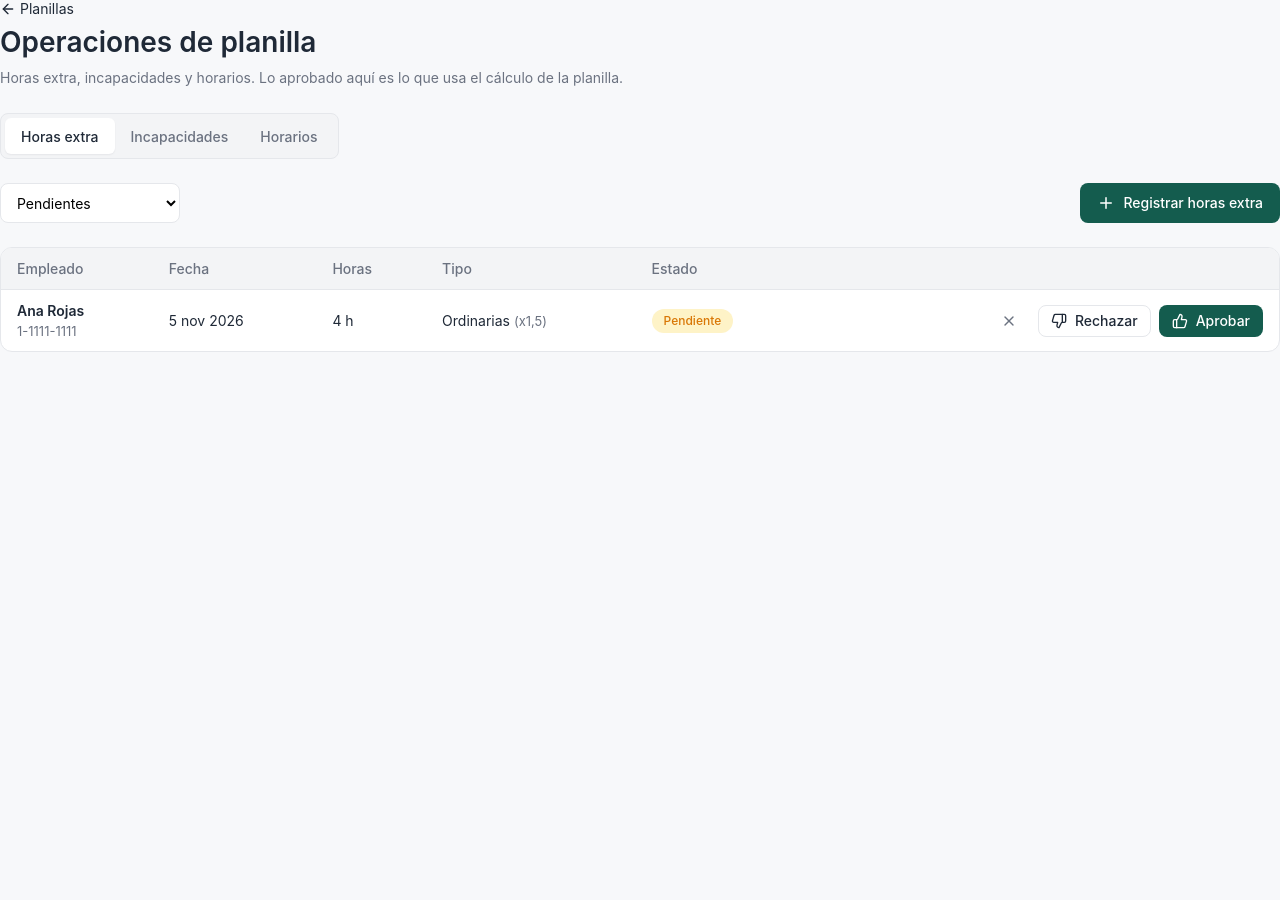
PayrollOperationsPage › registers overtime for an employee
This screenshot has width=1280, height=900.
Step 1. Click the button "Registrar horas extra" → x=1180, y=203, box [1080,183,1279,223]
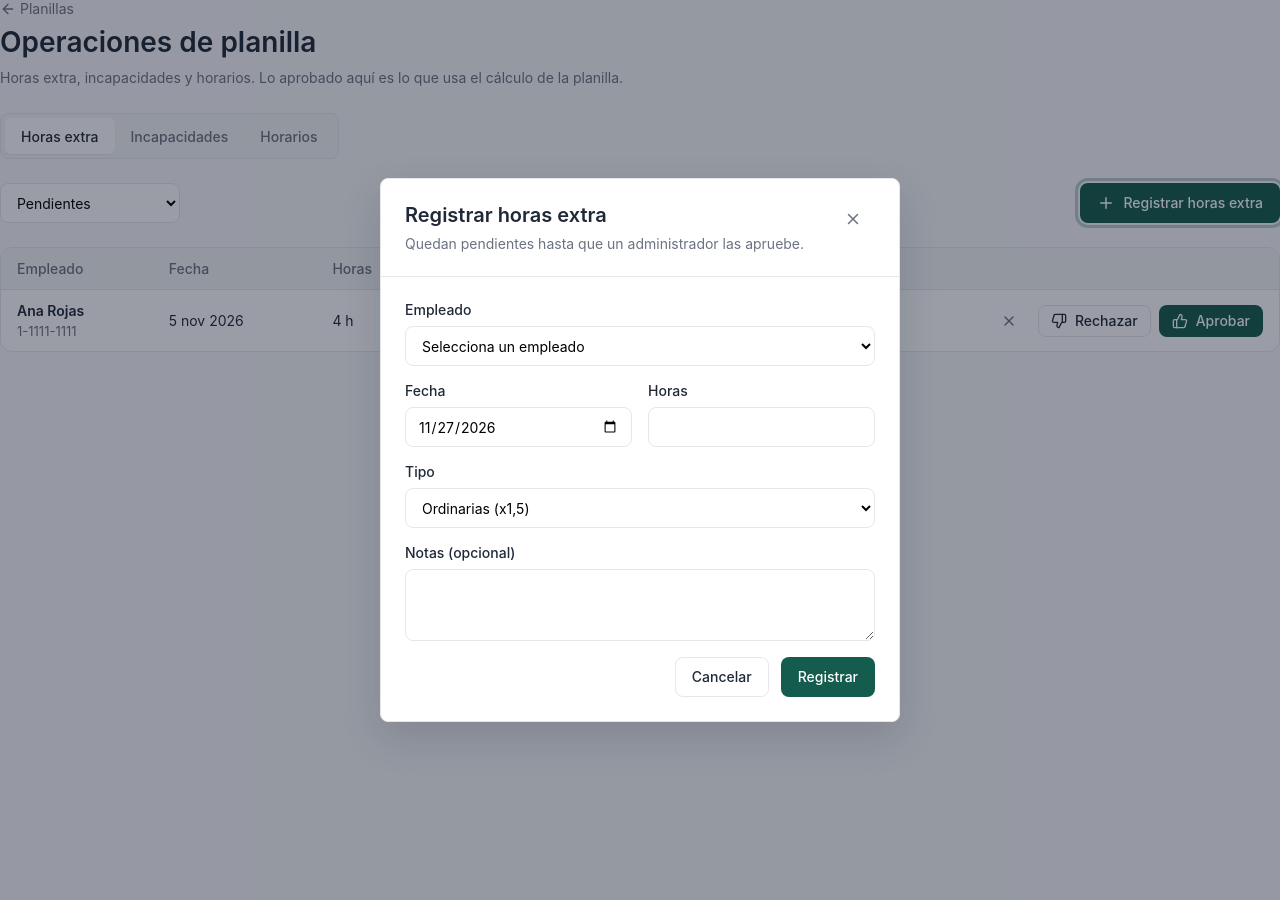
Result: the dropdown labelled "Tipo" shows "Ordinarias (x1,5)" at [405,488,875,528]
Step 2. Select "Luis Mora" in the dropdown labelled "Empleado" → x=640, y=346, box [405,326,875,366]
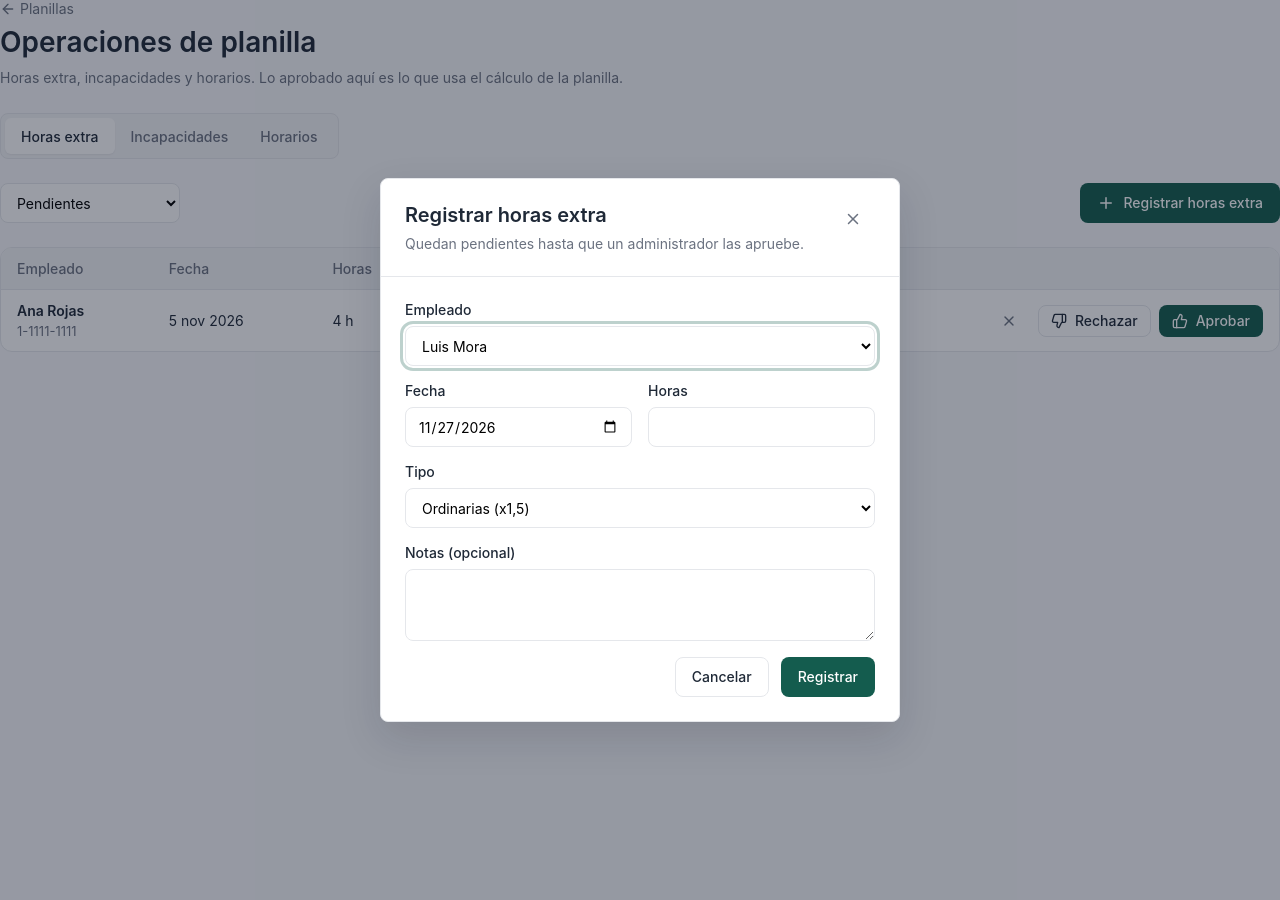
Step 3. Select "En feriado (x2)" in the dropdown labelled "Tipo" → x=640, y=508, box [405,488,875,528]
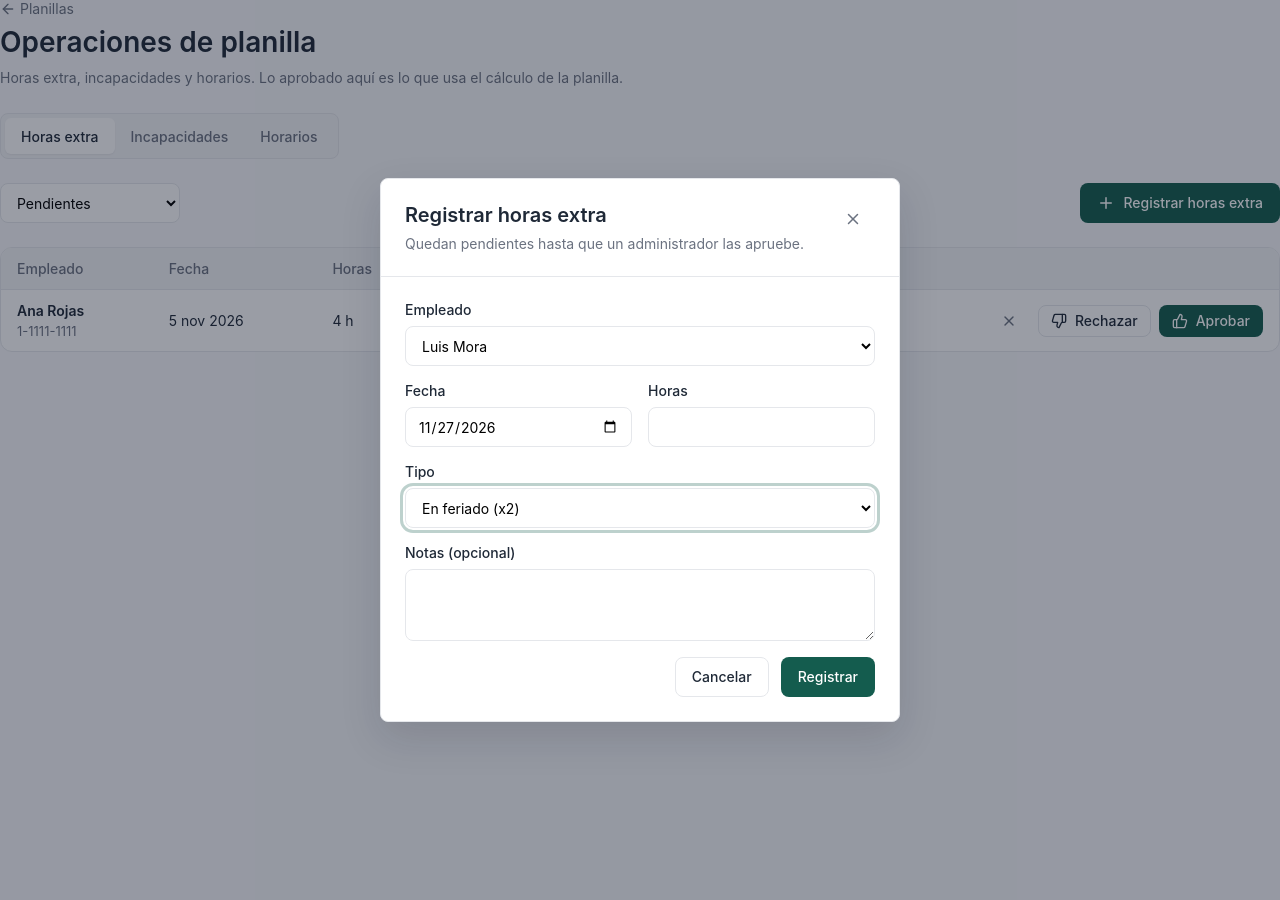
Step 4. Type "3" into the number field labelled "Horas" → x=762, y=427, box [648,407,875,447]
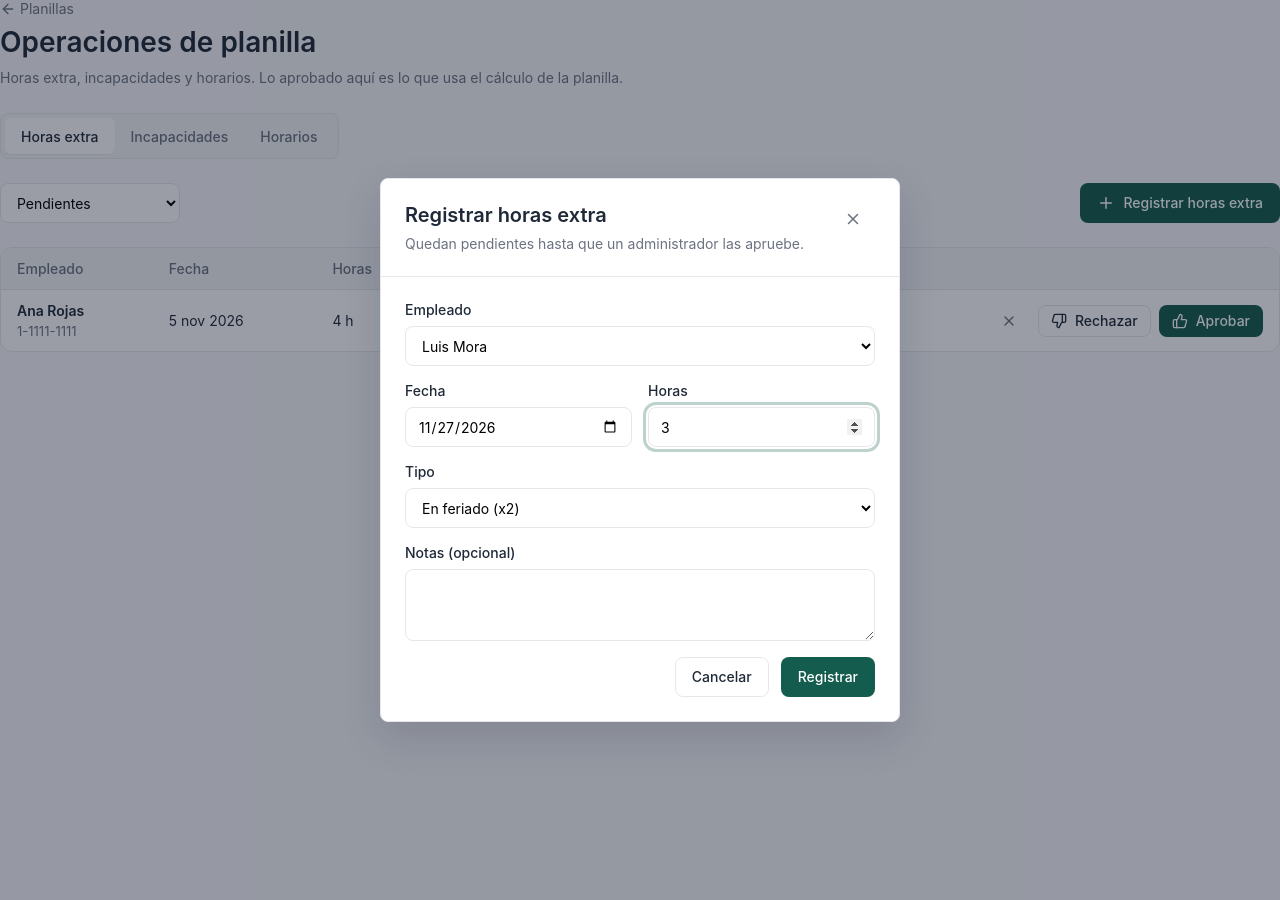
Step 5. Click the button "Registrar" → x=828, y=677, box [781,657,875,697]
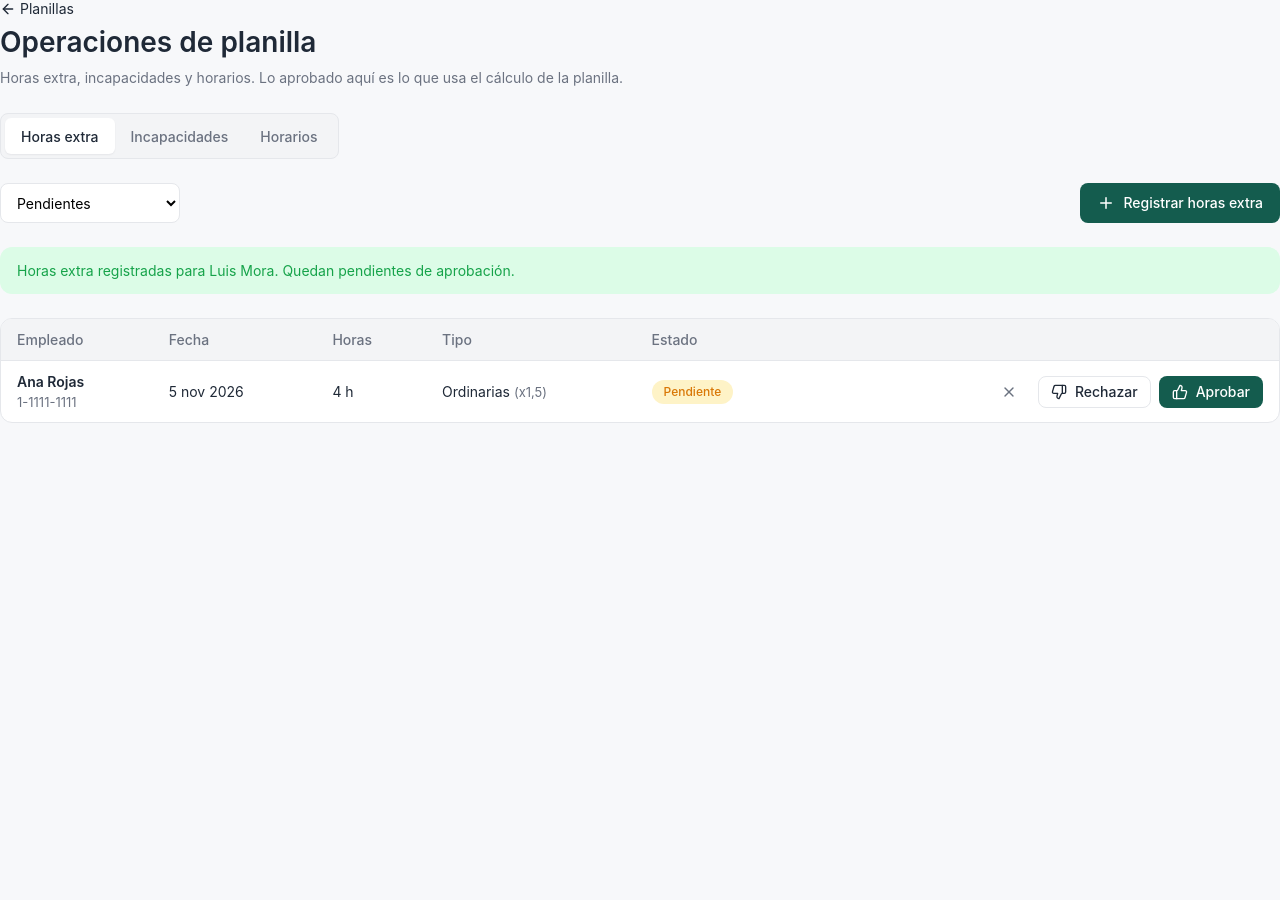
Result: the text "Horas extra registradas para Luis Mora. Quedan pendientes de aprobación." is shown at [0,247,1279,294]
